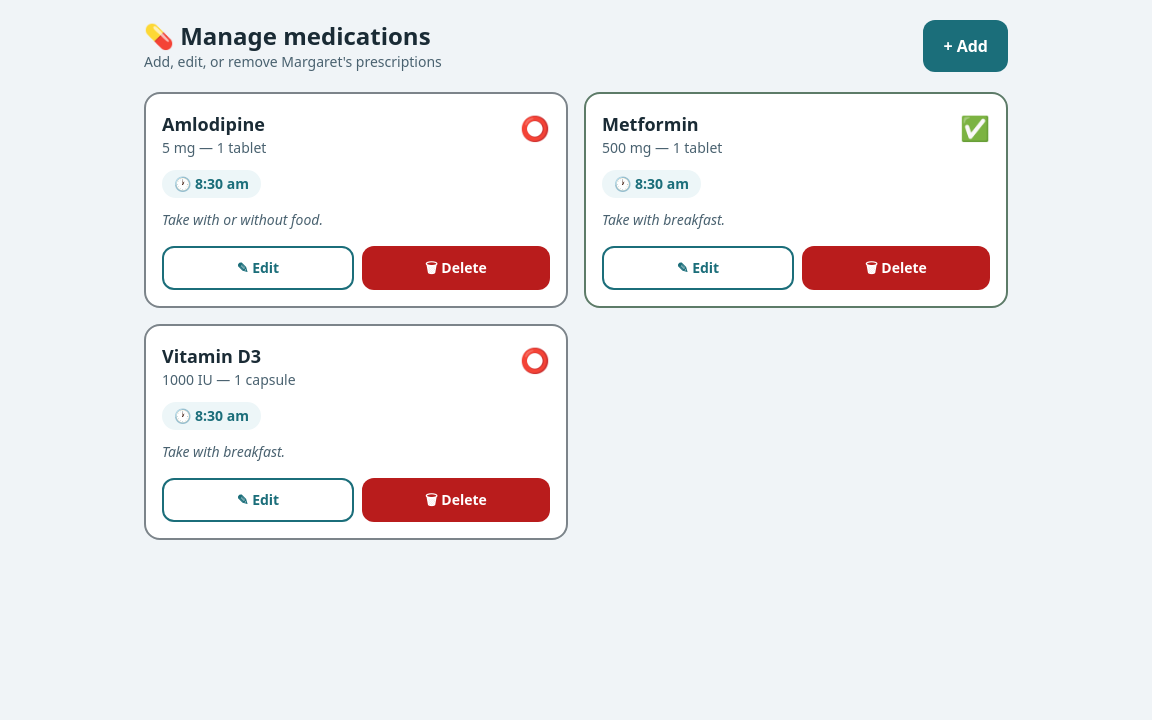
MedicationsPage › add form closes with Escape, Cancel and the Close button
The image size is (1152, 720).
Click the button "+ Add".
click(966, 46)  # box [923, 20, 1008, 72]
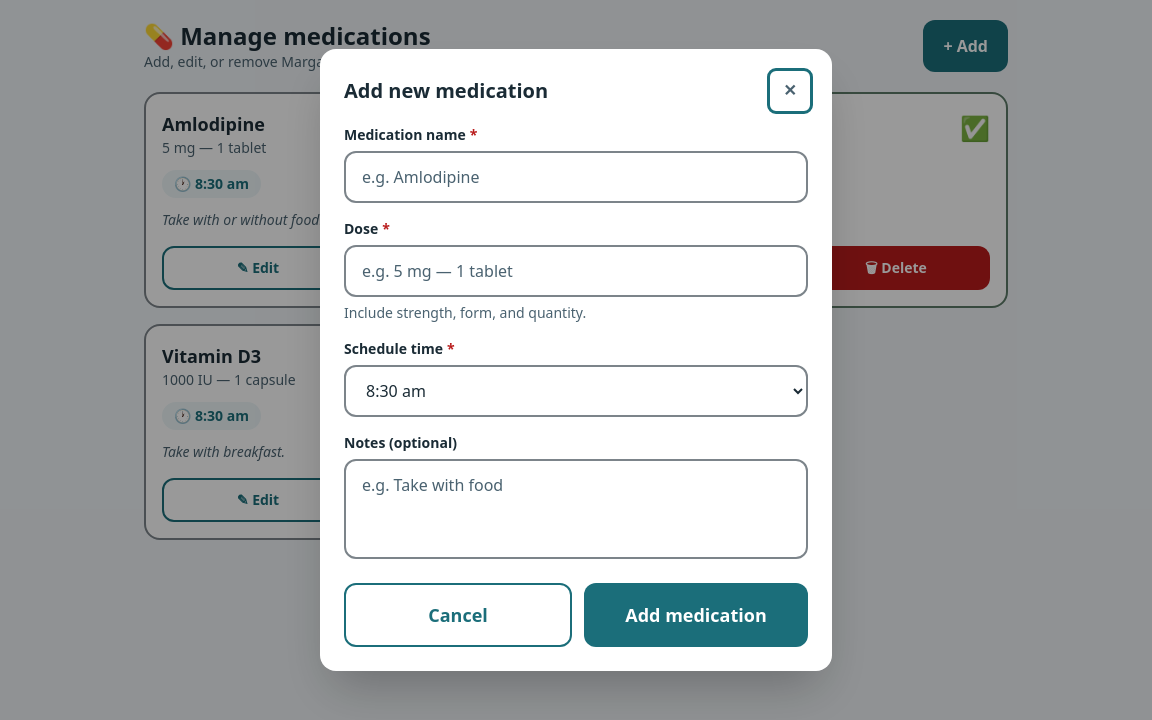
Press Escape
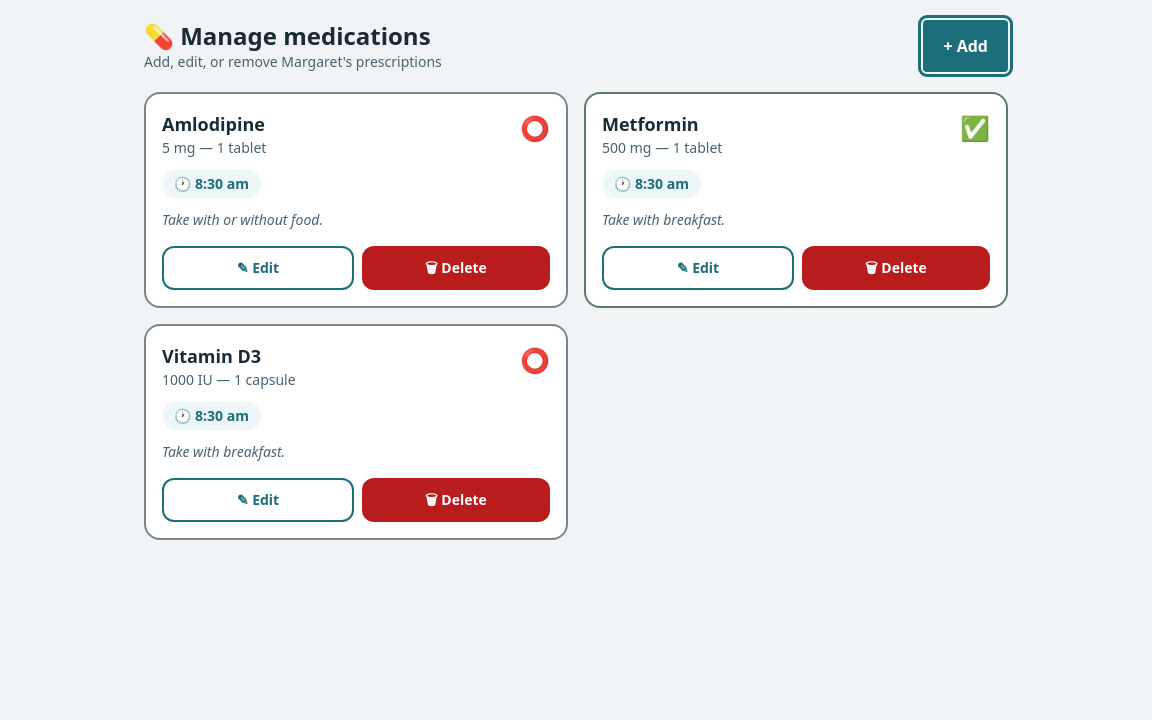
expect the dialog is gone: met
Click the button "+ Add".
click(966, 46)  # box [923, 20, 1008, 72]
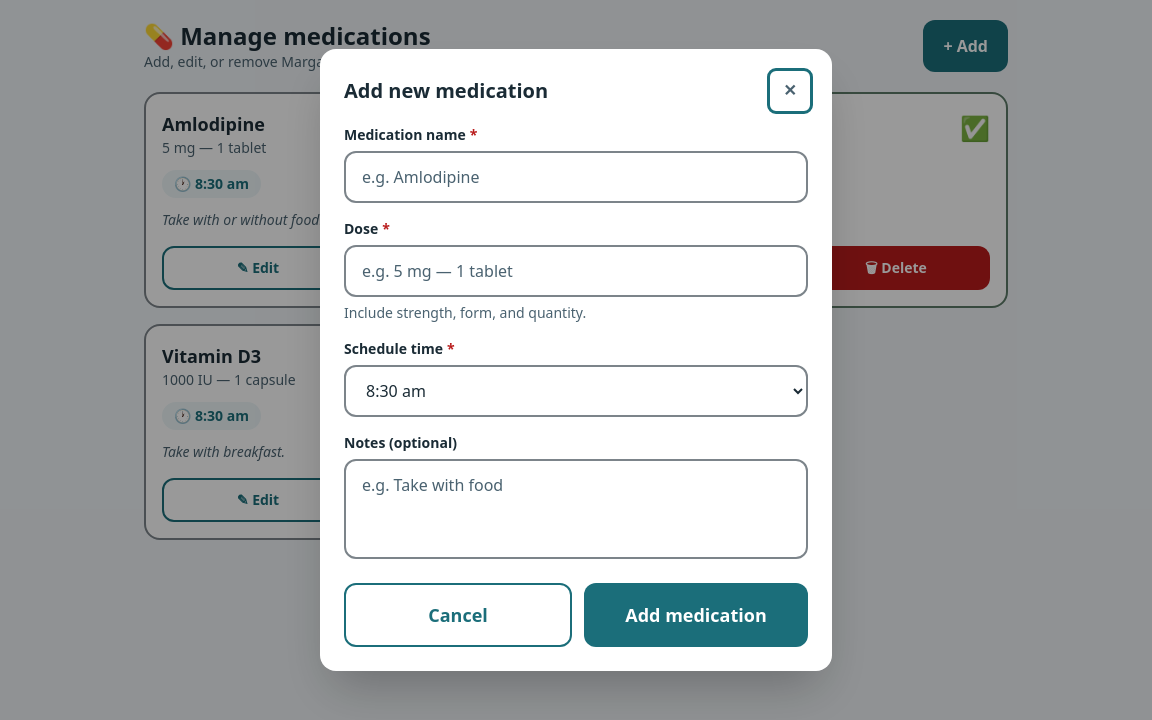
Click the button "Cancel".
click(458, 615)  # box [344, 583, 572, 647]
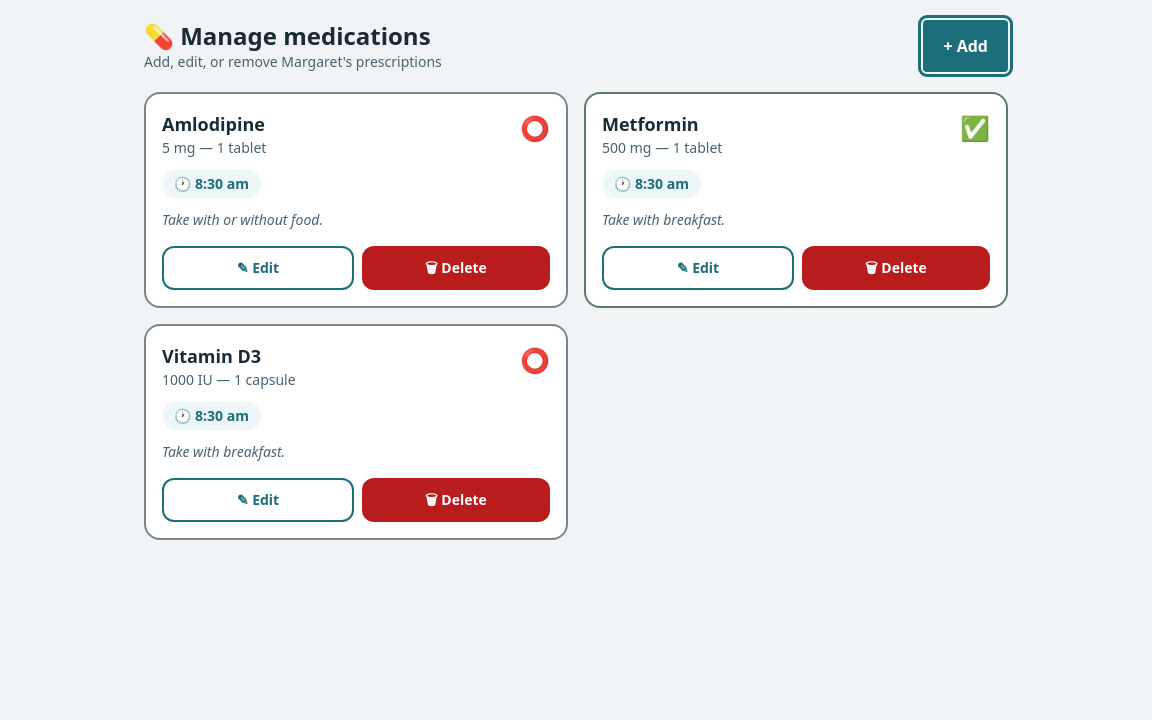
Click the button "+ Add".
click(966, 46)  # box [923, 20, 1008, 72]
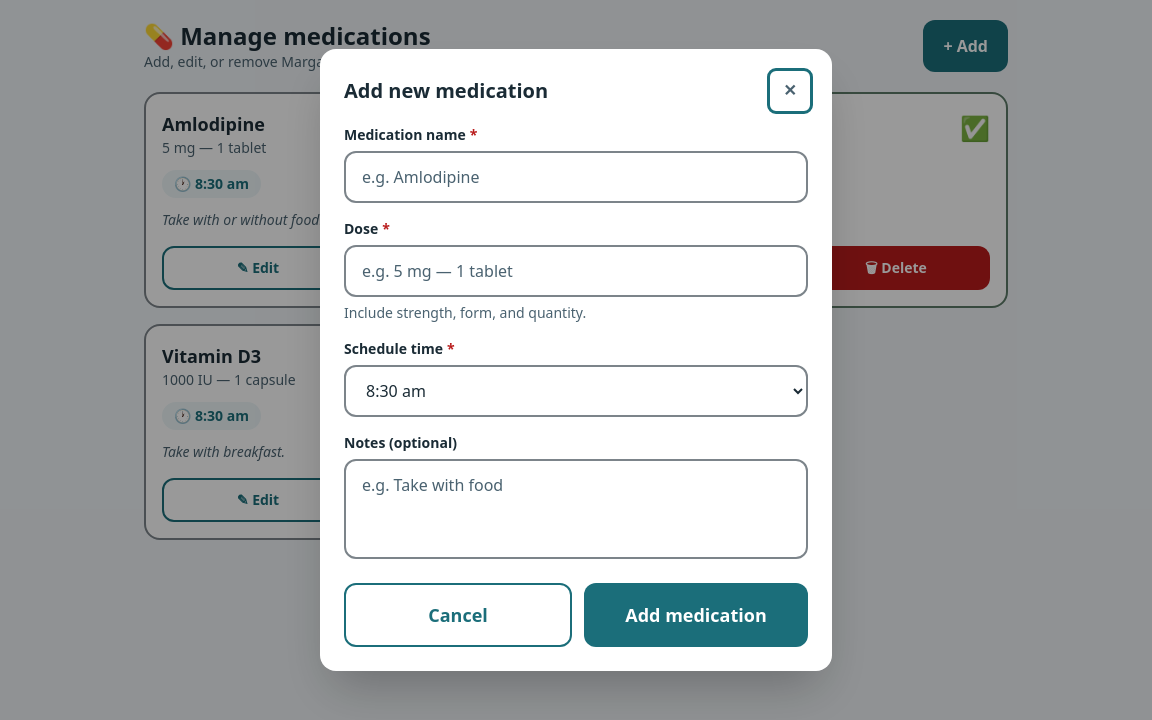
Click the button named "Close".
click(790, 91)  # box [772, 73, 808, 109]
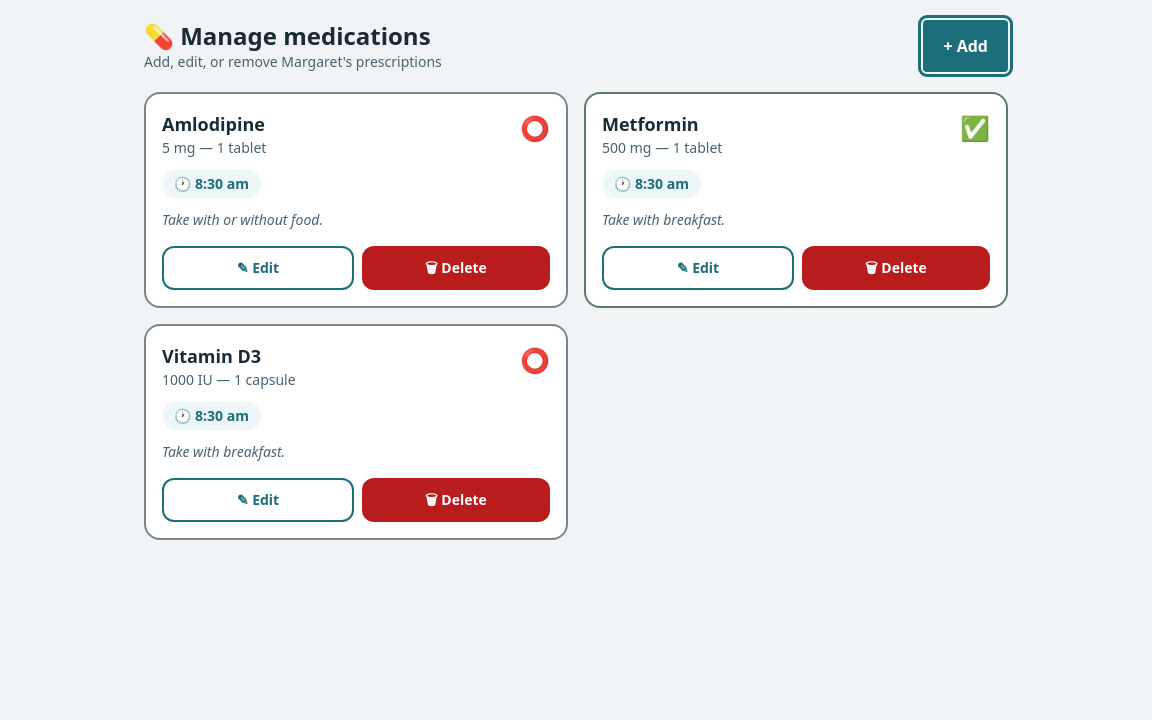
expect the dialog is gone: met
